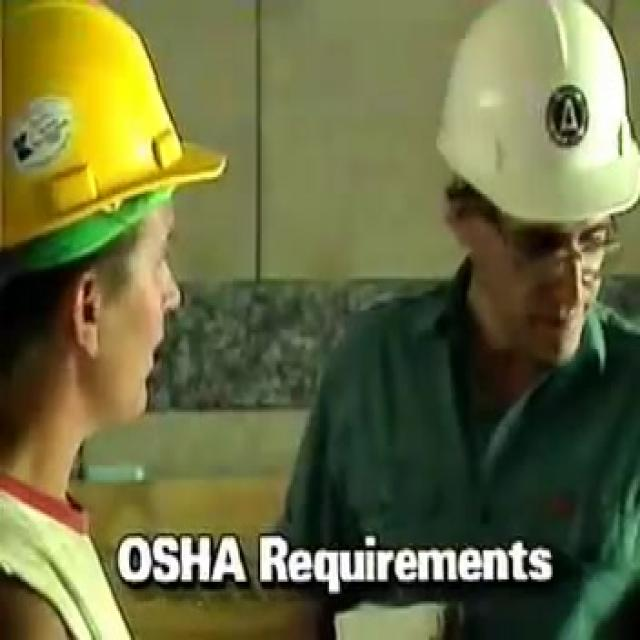Safety-Helmet: (0, 5, 233, 288), (424, 5, 638, 242)
